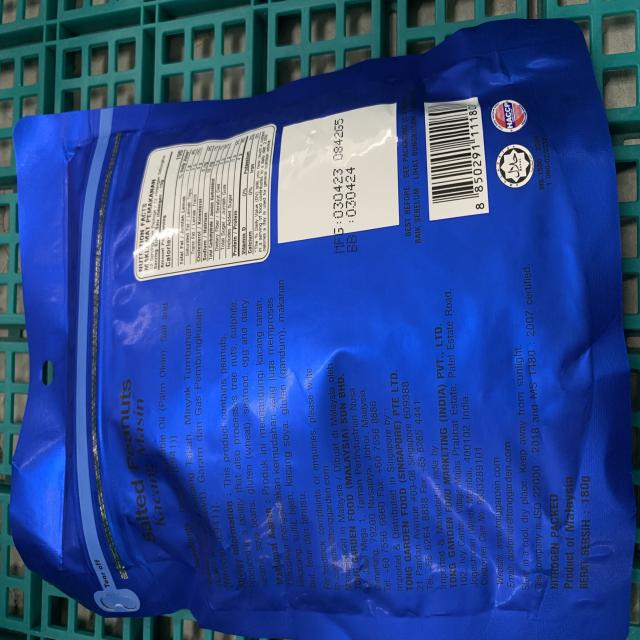object_name: (14, 95, 638, 640)
